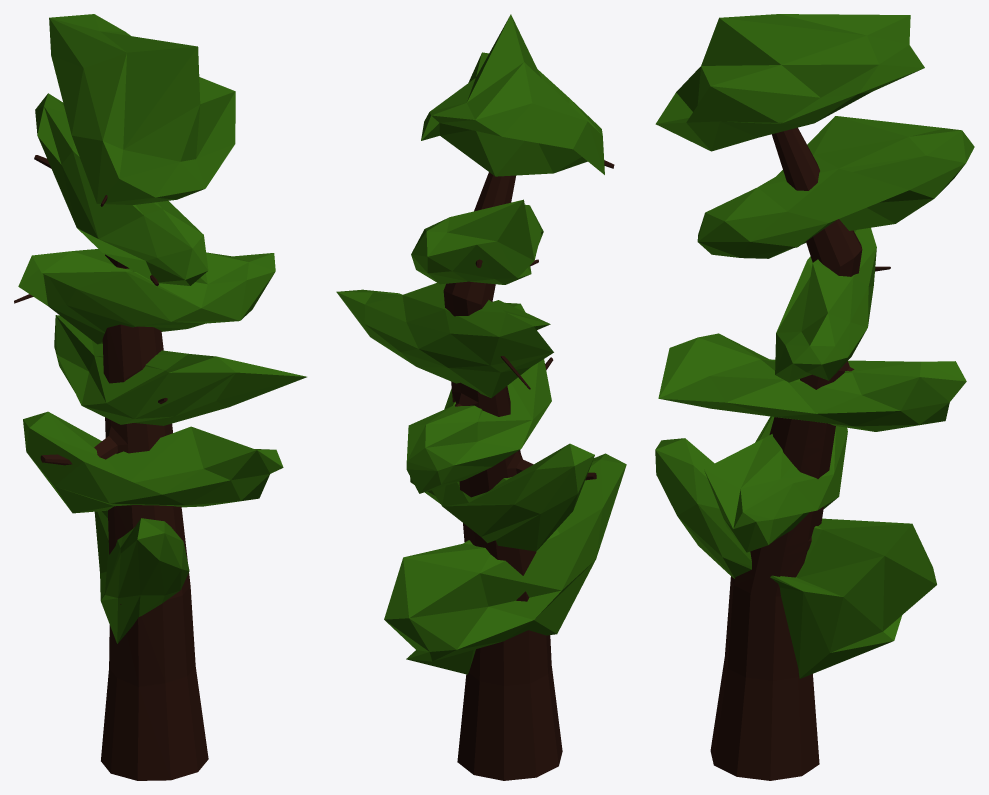
The model's file is t5-green.obj.
3 views of the same model, side by side, from view 1: azimuth 30°, elevation 25°; view 2: azimuth 150°, elevation 25°; view 3: azimuth 270°, elevation 25° (orthographic). The views are drawn at different scales.
Parts seen in each view (by area): view 1: t5-green_Icosphere.004; view 2: t5-green_Icosphere.004; view 3: t5-green_Icosphere.004.
Boxes of the visible parts, box(x1,y1,x2,y2) form: t5-green_Icosphere.004: box(14, 14, 306, 780); t5-green_Icosphere.004: box(336, 14, 626, 780); t5-green_Icosphere.004: box(655, 14, 974, 780).
Size of the model in its own units: 3.58 by 9.84 by 3.79.
